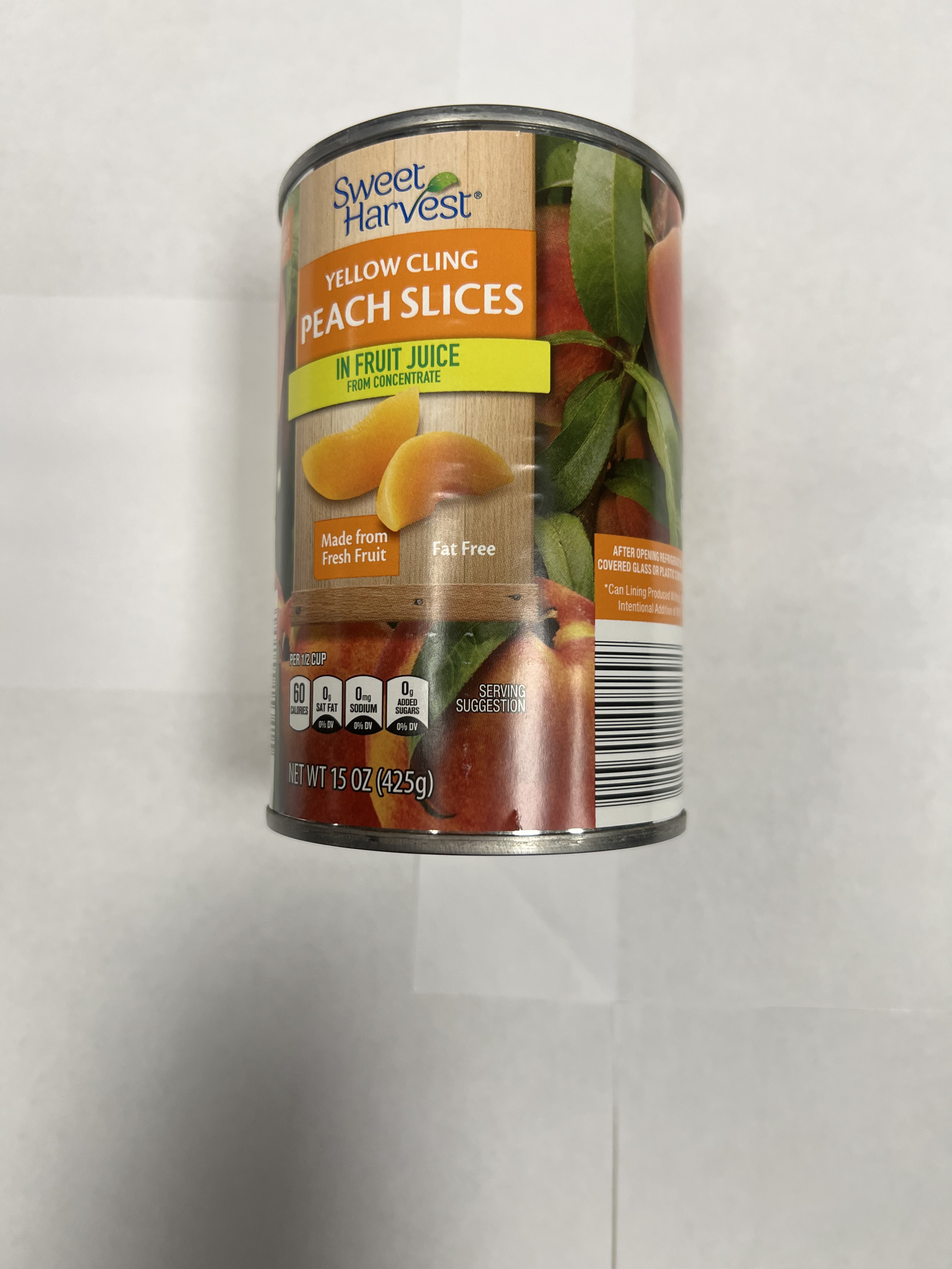packaged: (261, 96, 700, 868)
